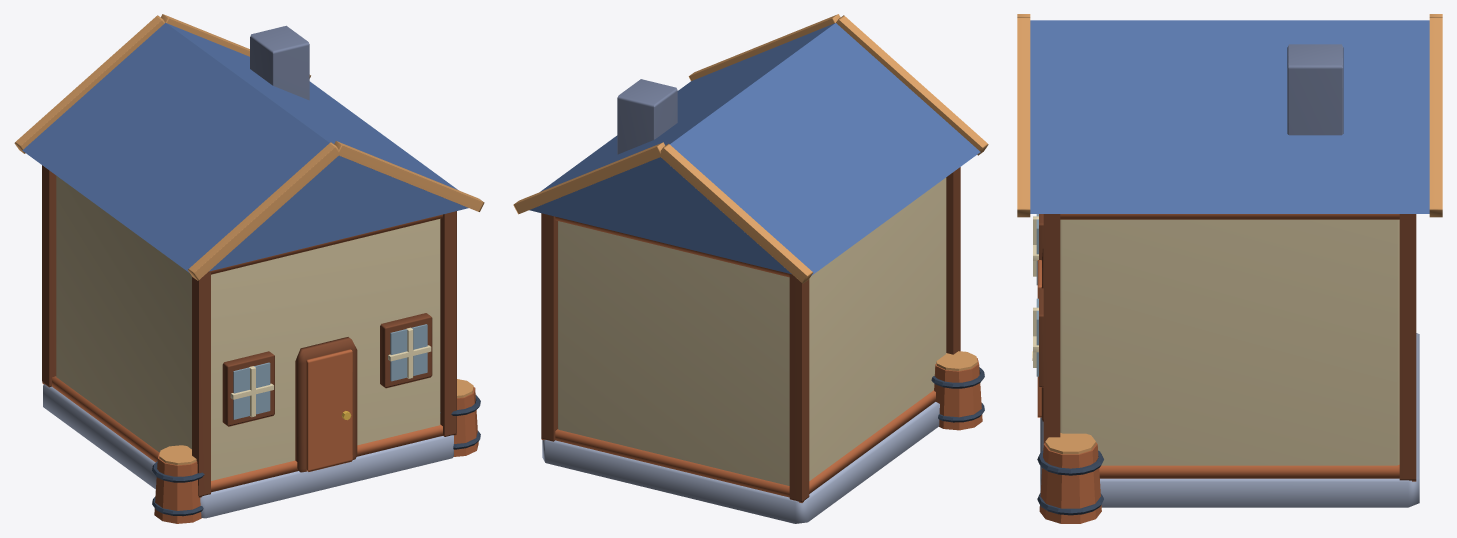
Rendered from granary.glb.
The picture shows the model from 3 angles, left to right: view 1: azimuth 30°, elevation 25°; view 2: azimuth 150°, elevation 25°; view 3: azimuth 270°, elevation 25°; orthographic projection. The views are drawn at different scales.
Visible parts, largest first — view 1: Plaster walls.002, Pitched roof.002, Stone footing.002, Door planks.002, Corner post.008, Corner post.010, Timber band.004, Chimney.002, Corner post.009, Roof trim.008, Front door.002, Roof trim.010 (+10 smaller); view 2: Plaster walls.002, Pitched roof.002, Stone footing.002, Corner post.009, Timber band.004, Corner post.011, Chimney.002, Roof trim.010, Corner post.008, Roof trim.008, Barrel staves, Roof trim.011 (+3 smaller); view 3: Plaster walls.002, Pitched roof.002, Stone footing.002, Chimney.002, Corner post.011, Timber band.004, Corner post.010, Barrel staves.001, Roof trim.009, Roof trim.011, Timber band.005, Barrel lid.001 (+3 smaller).
Part boxes in pixels (<box>): Plaster walls.002: <box>56,176,440,480</box>; Pitched roof.002: <box>22,23,468,272</box>; Stone footing.002: <box>43,384,453,518</box>; Door planks.002: <box>306,349,352,471</box>; Corner post.008: <box>192,271,210,497</box>; Corner post.010: <box>440,211,456,436</box>; Timber band.004: <box>52,376,442,492</box>; Chimney.002: <box>250,25,309,100</box>; Corner post.009: <box>42,165,56,387</box>; Roof trim.008: <box>188,142,339,280</box>; Front door.002: <box>295,337,357,472</box>; Roof trim.010: <box>14,15,165,153</box>; Plaster walls.002: <box>558,177,946,485</box>; Pitched roof.002: <box>529,23,980,275</box>; Stone footing.002: <box>542,402,939,523</box>; Corner post.009: <box>789,274,809,502</box>; Timber band.004: <box>555,390,935,497</box>; Corner post.011: <box>541,213,557,441</box>; Chimney.002: <box>617,79,677,154</box>; Roof trim.010: <box>660,143,813,283</box>; Corner post.008: <box>946,167,960,354</box>; Roof trim.008: <box>836,15,988,155</box>; Barrel staves: <box>934,358,982,430</box>; Roof trim.011: <box>513,142,665,214</box>; Plaster walls.002: <box>1060,219,1399,465</box>; Pitched roof.002: <box>1030,20,1429,213</box>; Stone footing.002: <box>1040,333,1419,507</box>; Chimney.002: <box>1287,44,1343,135</box>; Corner post.011: <box>1399,214,1416,481</box>; Timber band.004: <box>1099,464,1399,478</box>; Corner post.010: <box>1043,214,1060,443</box>; Barrel staves.001: <box>1039,442,1101,523</box>; Roof trim.009: <box>1017,17,1030,217</box>; Roof trim.011: <box>1429,17,1442,217</box>; Timber band.005: <box>1060,214,1399,219</box>; Barrel lid.001: <box>1045,433,1095,454</box>.
Bounding box in the file's own units: 4.71 × 4.91 × 4.54.
